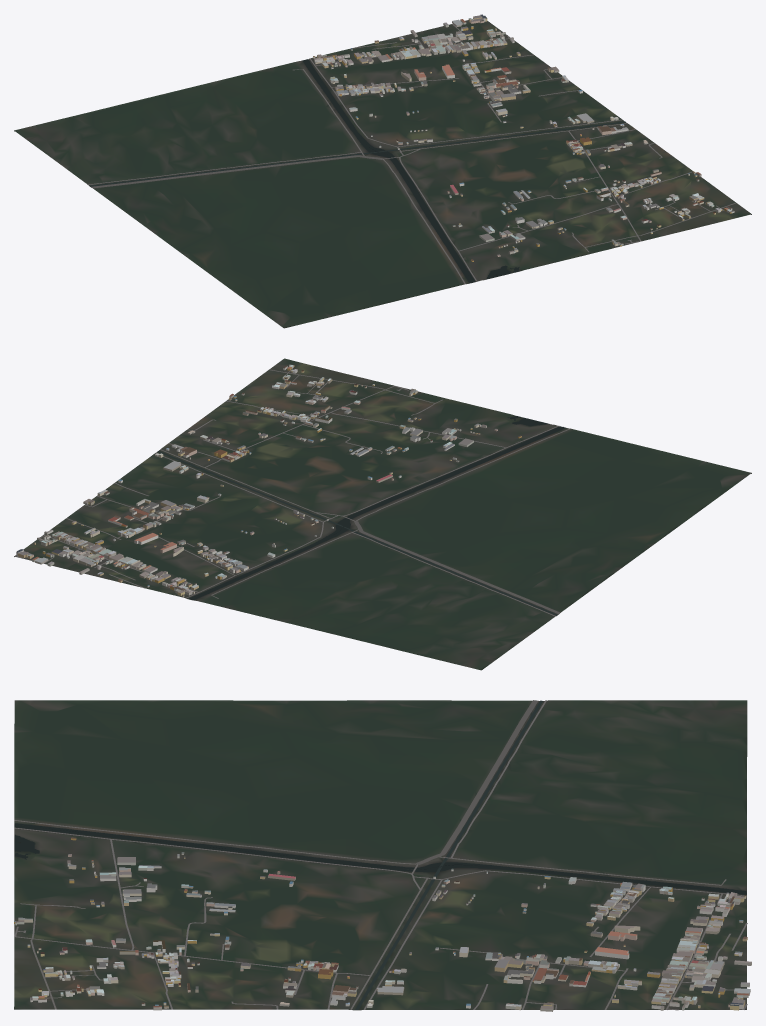
3 views of the same model, one above another, from view 1: azimuth 30°, elevation 25°; view 2: azimuth 150°, elevation 25°; view 3: azimuth 270°, elevation 25° (orthographic). The views are drawn at different scales.
Visible parts, largest first — view 1: ground, buildings, roads, water; view 2: ground, buildings, roads, water; view 3: ground, buildings, roads, water.
Boxes of the visible parts, box(x1,y1,x2,y2) form: ground: box(14, 19, 751, 328); buildings: box(313, 14, 734, 261); roads: box(88, 23, 736, 284); water: box(89, 59, 625, 282); ground: box(14, 358, 751, 670); buildings: box(16, 364, 521, 597); roads: box(15, 369, 570, 616); water: box(157, 416, 565, 615); ground: box(14, 700, 747, 1010); buildings: box(14, 837, 751, 1011); roads: box(14, 700, 747, 1010); water: box(14, 700, 746, 1009).
Size of the model in its own units: 1408 by 14.14 by 1411.
